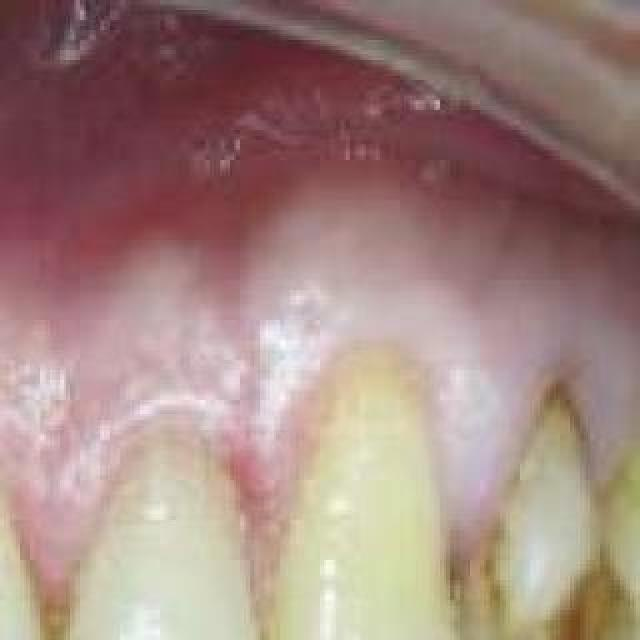stains: (462, 350, 600, 640), (16, 570, 116, 640)
